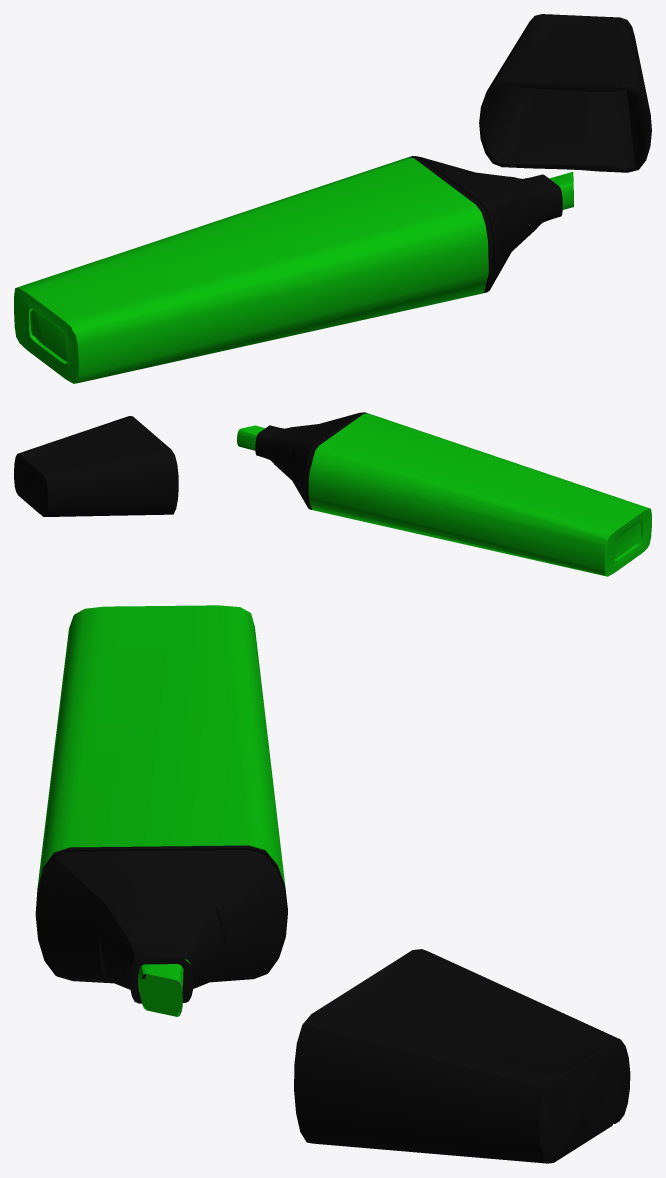
Rendered from Marker 2.FBX.
3 renders of one model, top to bottom at view 1: azimuth 30°, elevation 25°; view 2: azimuth 150°, elevation 25°; view 3: azimuth 270°, elevation 25°, orthographic. The views are drawn at different scales.
Visible parts, largest first — view 1: Marker 2; view 2: Marker 2; view 3: Marker 2.
Boxes of the visible parts, x1,y1,x2,y2 form: Marker 2: (14, 14, 651, 383); Marker 2: (14, 412, 651, 576); Marker 2: (35, 605, 630, 1163).
Size of the model in its own units: 13.39 by 1.6 by 6.61.
